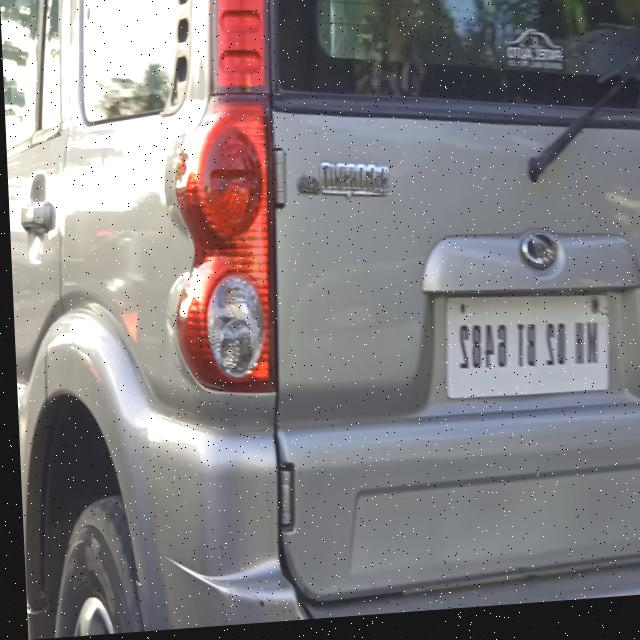plate: (440, 296, 607, 411)
